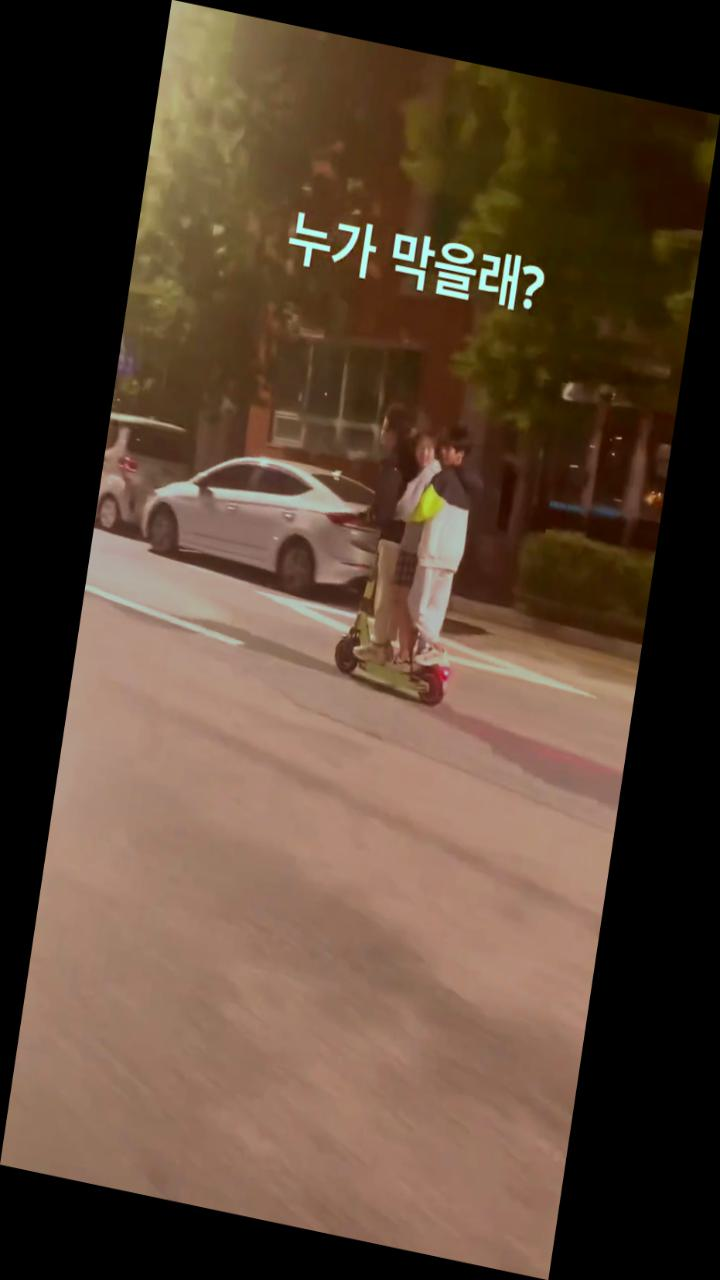multiple: (324, 394, 498, 713)
